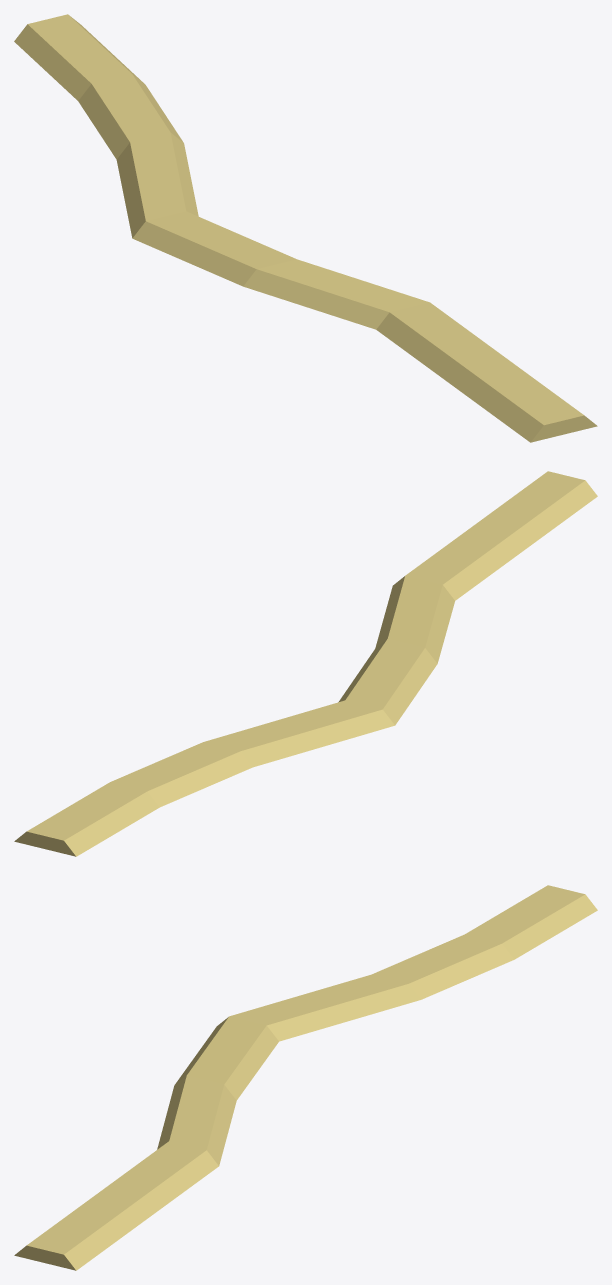
File: SM_Road.fbx
3 views of the same model, one above another, from view 1: azimuth 30°, elevation 25°; view 2: azimuth 150°, elevation 25°; view 3: azimuth 330°, elevation 25° (orthographic). The views are drawn at different scales.
Visible parts, largest first — view 1: Plane.004; view 2: Plane.004; view 3: Plane.004.
Part boxes in pixels (left/top/right/bottom): Plane.004: left=14, top=14, right=597, bottom=442; Plane.004: left=14, top=471, right=597, bottom=856; Plane.004: left=14, top=885, right=597, bottom=1270.
Size of the model in its own units: 1338 by 110 by 6930.
